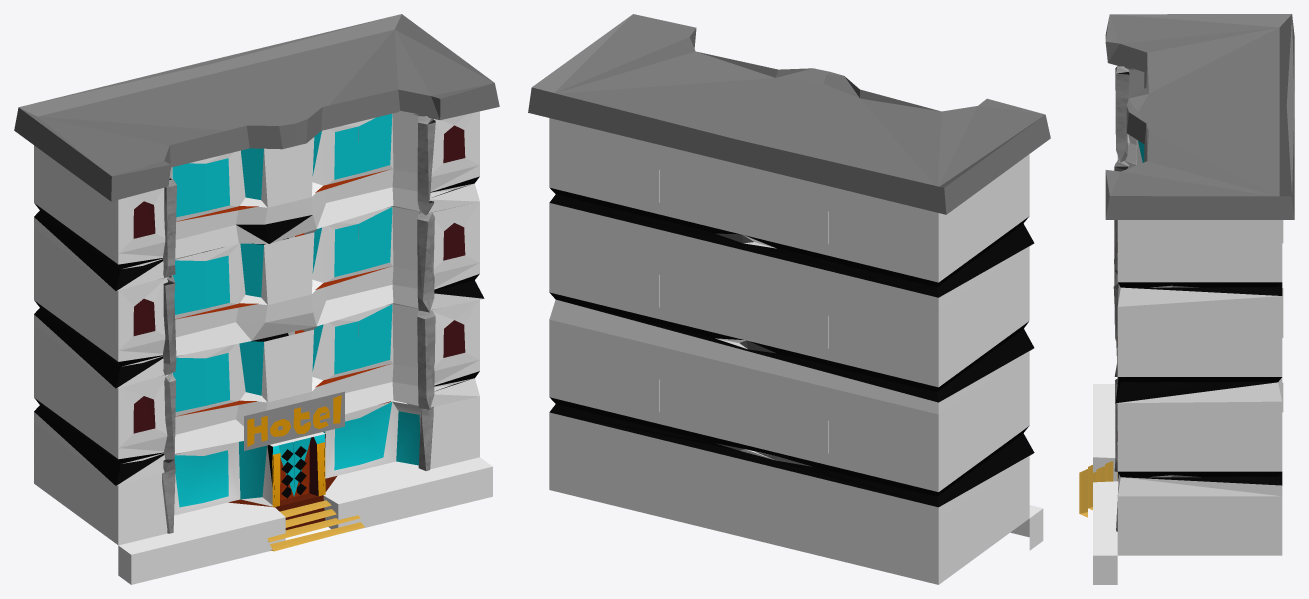
File: HotelLOD2.fbx
3 views of the same model, side by side, from view 1: azimuth 30°, elevation 25°; view 2: azimuth 150°, elevation 25°; view 3: azimuth 270°, elevation 25° (orthographic). The views are drawn at different scales.
Visible parts, largest first — view 1: HotelLOD2; view 2: HotelLOD2; view 3: HotelLOD2.
Part boxes in pixels (box(x1,y1,x2,y2)): HotelLOD2: box(14, 14, 499, 584); HotelLOD2: box(528, 14, 1050, 584); HotelLOD2: box(1079, 14, 1294, 584).
Bounding box in the file's own units: 1544 × 1539 × 760.
